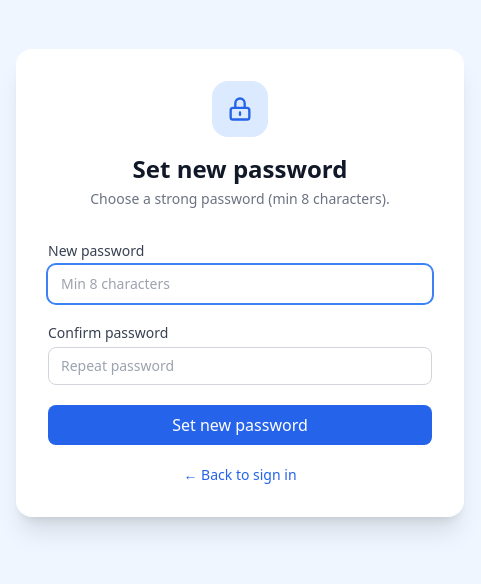
Test: ResetPasswordPage › shows error when passwords do not match
Type "password1" into the password field with placeholder "Min 8 characters".
click(240, 284); type("password1")  # box top-left (48, 265), bottom-right (432, 303)
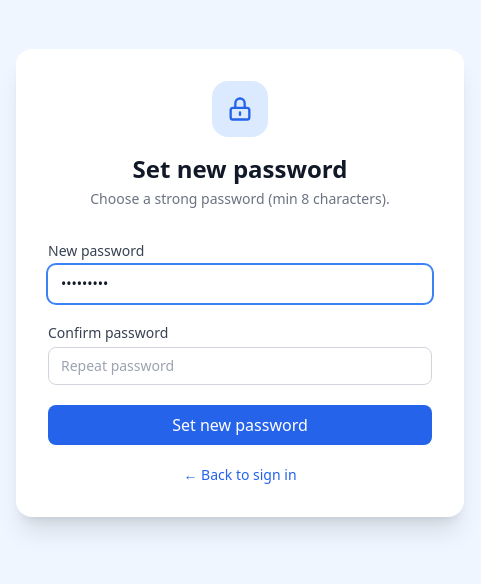
Type "password2" into the password field with placeholder "Repeat password".
click(240, 366); type("password2")  # box top-left (48, 347), bottom-right (432, 385)
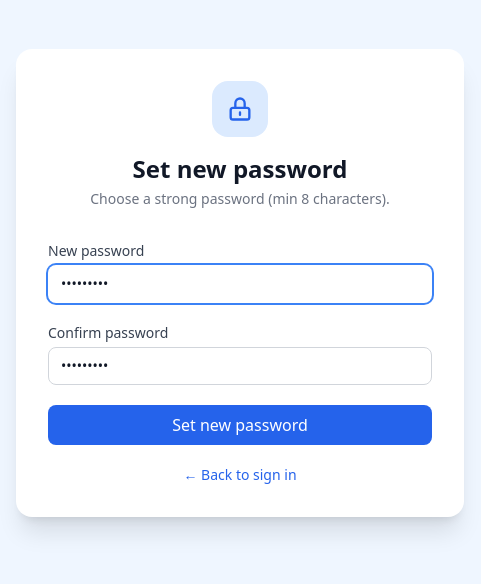
Click the button "Set new password".
click(240, 425)  # box top-left (48, 405), bottom-right (432, 445)
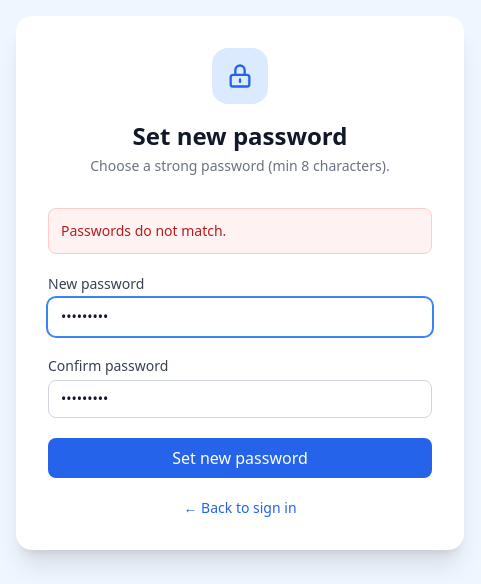
Result: the text "Passwords do not match." is shown at top-left (48, 208), bottom-right (432, 254)
